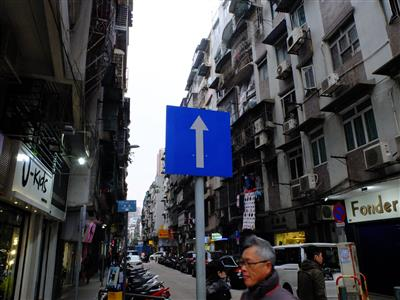oneway: (157, 93, 235, 186)
